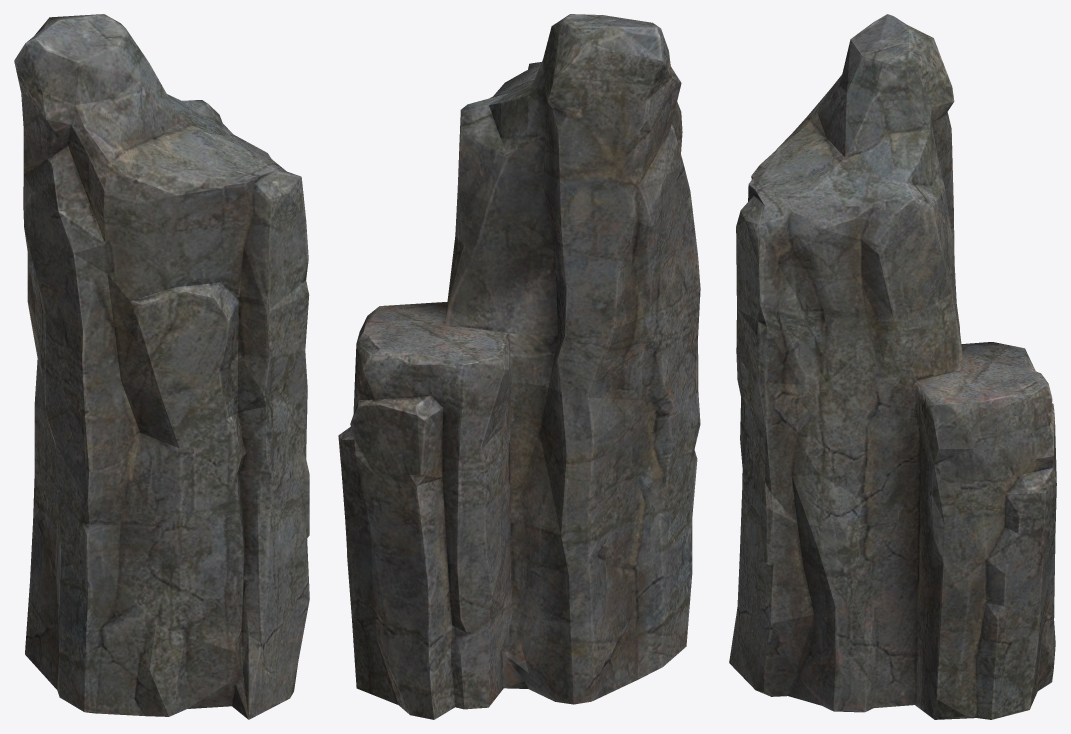
Rendered from bg_chs_darks_rock01_sm_artree.FBX.
The picture shows the model from 3 angles, left to right: view 1: azimuth 30°, elevation 25°; view 2: azimuth 150°, elevation 25°; view 3: azimuth 270°, elevation 25°; orthographic projection. The views are drawn at different scales.
Visible parts, largest first — view 1: bg_chs_darks_rock01_sm_artree; view 2: bg_chs_darks_rock01_sm_artree; view 3: bg_chs_darks_rock01_sm_artree.
Part boxes in pixels (x1,y1,x2,y2): bg_chs_darks_rock01_sm_artree: [14, 14, 309, 719]; bg_chs_darks_rock01_sm_artree: [338, 14, 700, 719]; bg_chs_darks_rock01_sm_artree: [729, 14, 1056, 719].
Size of the model in its own units: 236 by 564 by 278.
